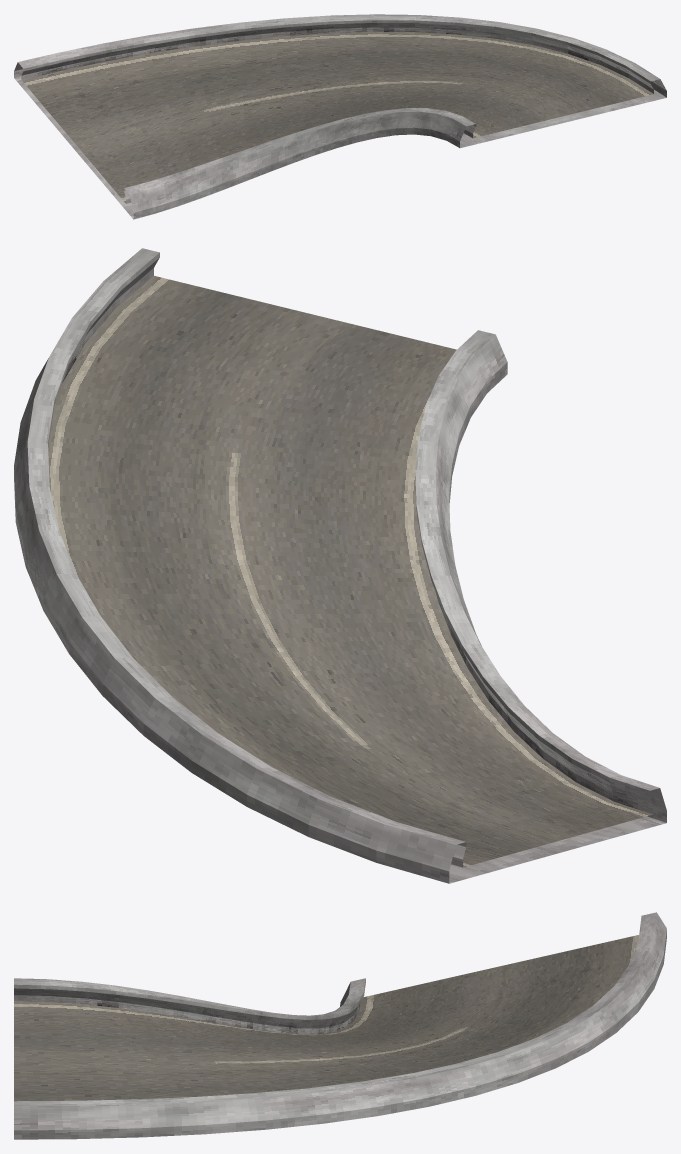
The model's file is turn-left2x2.glb.
3 views of the same model, one above another, from view 1: azimuth 30°, elevation 25°; view 2: azimuth 150°, elevation 25°; view 3: azimuth 270°, elevation 25° (orthographic). The views are drawn at different scales.
Visible parts, largest first — view 1: road-Turn-Flat-HalfBankedLeft-Down2-Left-Size2; view 2: road-Turn-Flat-HalfBankedLeft-Down2-Left-Size2; view 3: road-Turn-Flat-HalfBankedLeft-Down2-Left-Size2.
Part boxes in pixels (<box>): road-Turn-Flat-HalfBankedLeft-Down2-Left-Size2: <box>14,14,666,219</box>; road-Turn-Flat-HalfBankedLeft-Down2-Left-Size2: <box>14,248,666,883</box>; road-Turn-Flat-HalfBankedLeft-Down2-Left-Size2: <box>14,912,666,1139</box>.
Bounding box in the file's own units: 2 × 0.5938 × 2.
Materials: 2 (2 with a texture image).
